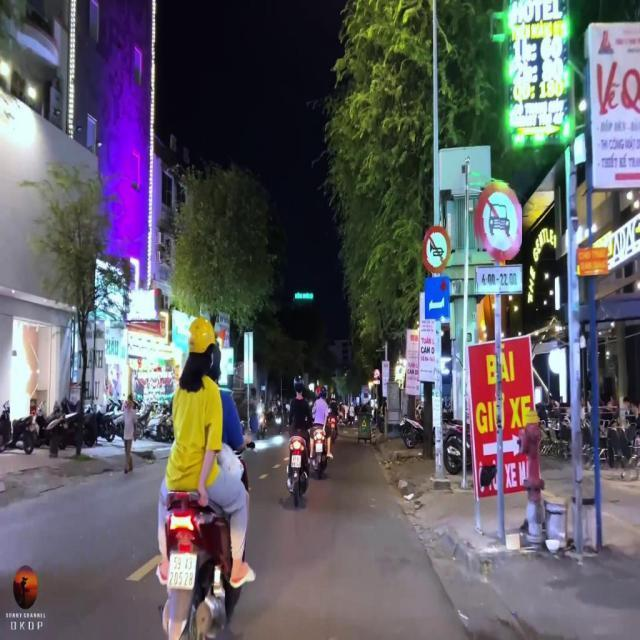103a-cam-oto: (474, 186, 524, 260)
128-cam-su-dung-coi: (422, 224, 452, 272)
